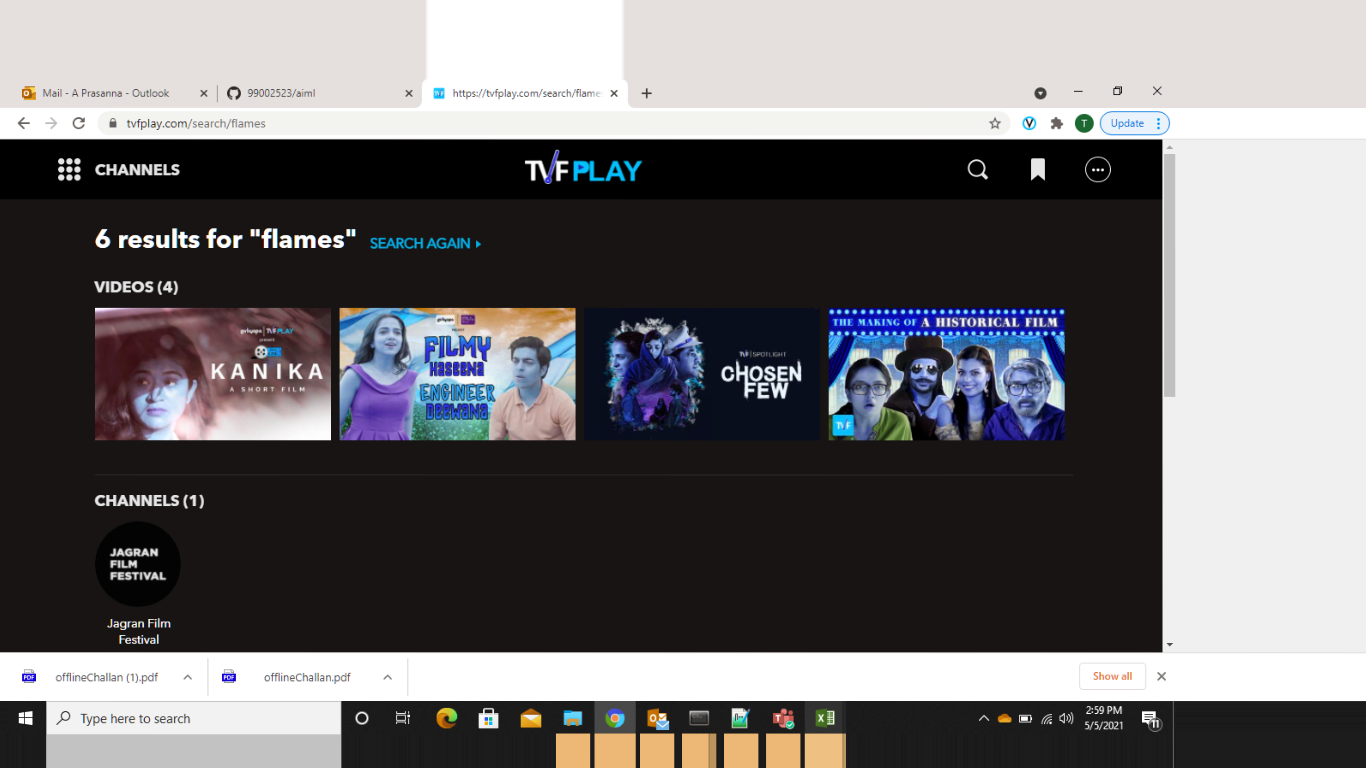profileicon: (1074, 149, 1122, 188)
resultsfound: (82, 212, 500, 270)
searchicon: (960, 145, 1001, 190)
